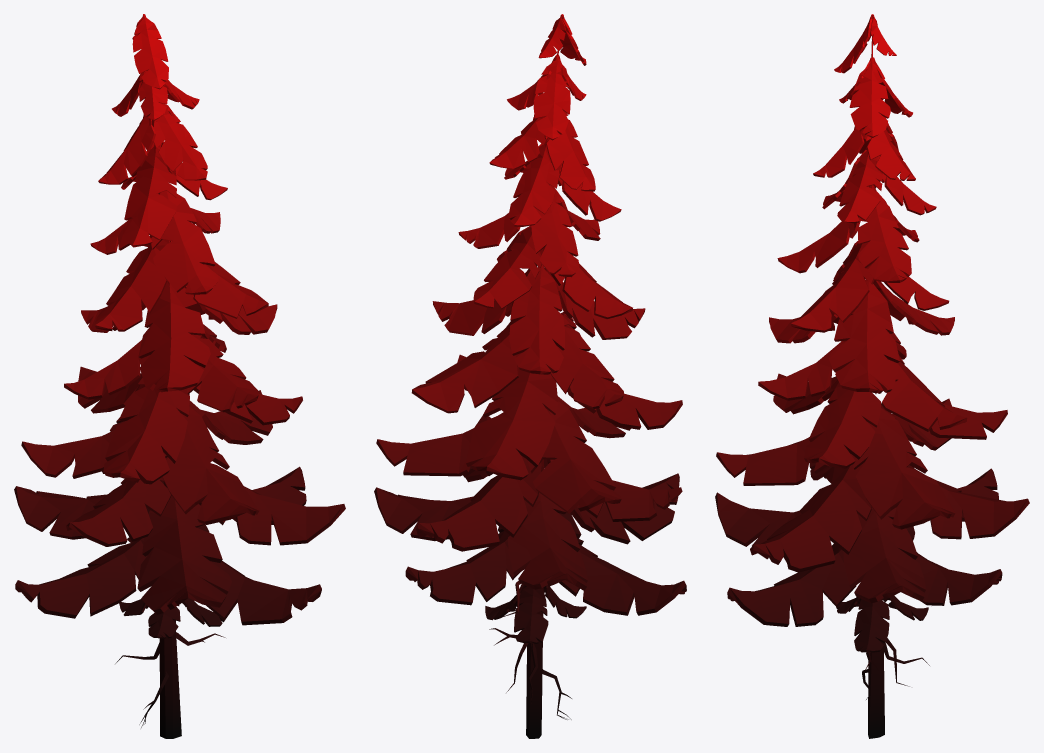
File: TreeSpruce06.fbx
3 views of the same model, side by side, from view 1: azimuth 30°, elevation 25°; view 2: azimuth 150°, elevation 25°; view 3: azimuth 270°, elevation 25° (orthographic). The views are drawn at different scales.
Visible parts, largest first — view 1: TreeSpruce06_LOD0; view 2: TreeSpruce06_LOD0; view 3: TreeSpruce06_LOD0.
Part boxes in pixels (x1,y1,x2,y2): TreeSpruce06_LOD0: [14, 14, 345, 738]; TreeSpruce06_LOD0: [374, 14, 686, 738]; TreeSpruce06_LOD0: [715, 14, 1029, 738].
Size of what is drawn, in the model's own units: 152 by 353 by 142.
